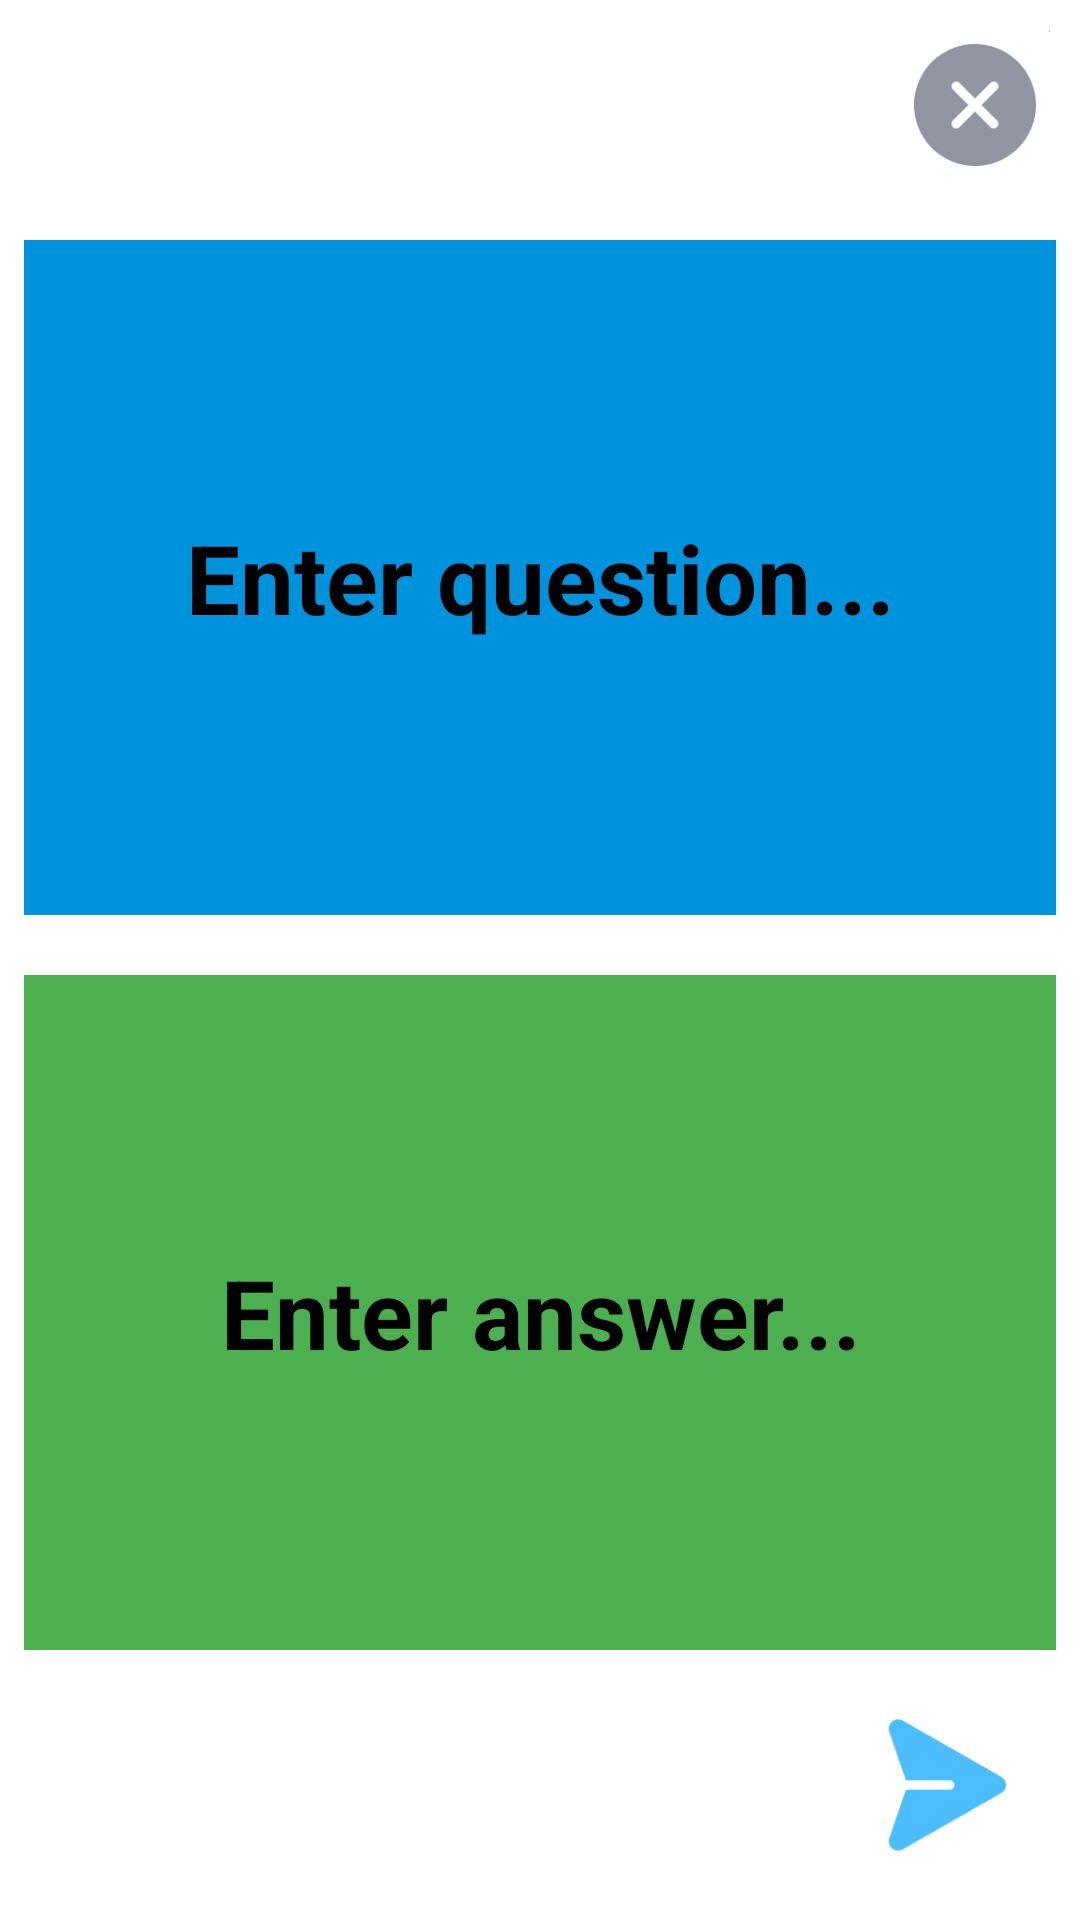

Screen size 1080 × 1920. Icon name, then its box in pixels as (x1, y1, x2, y2):
cacle: (914, 30, 1050, 166)
send: (888, 1719, 1006, 1851)
